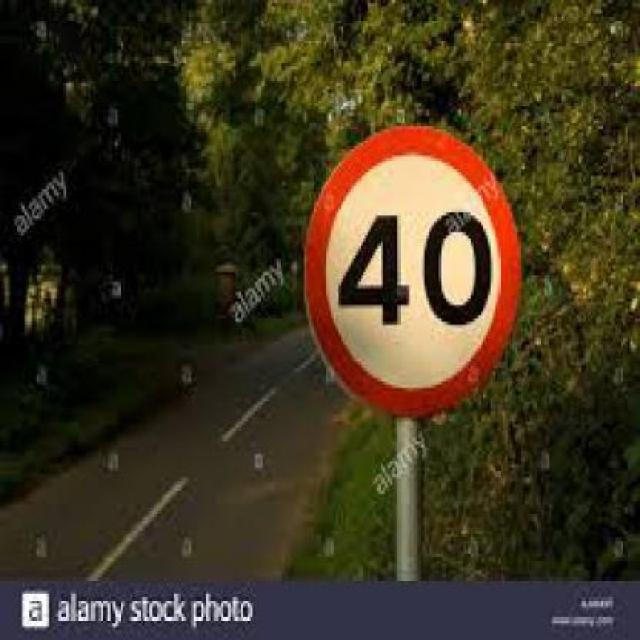forb_speed_over_40: (309, 127, 513, 411)
